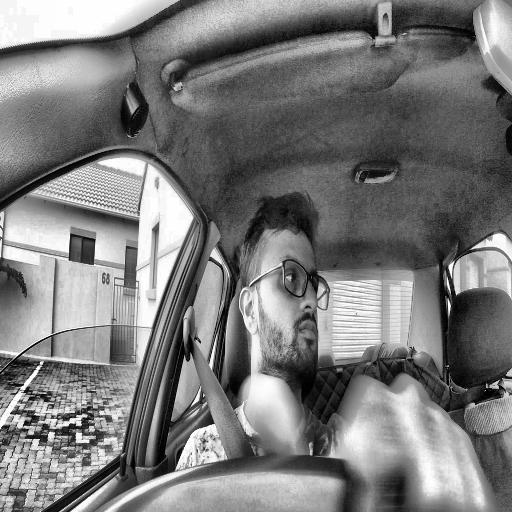awake: (239, 189, 330, 385)
